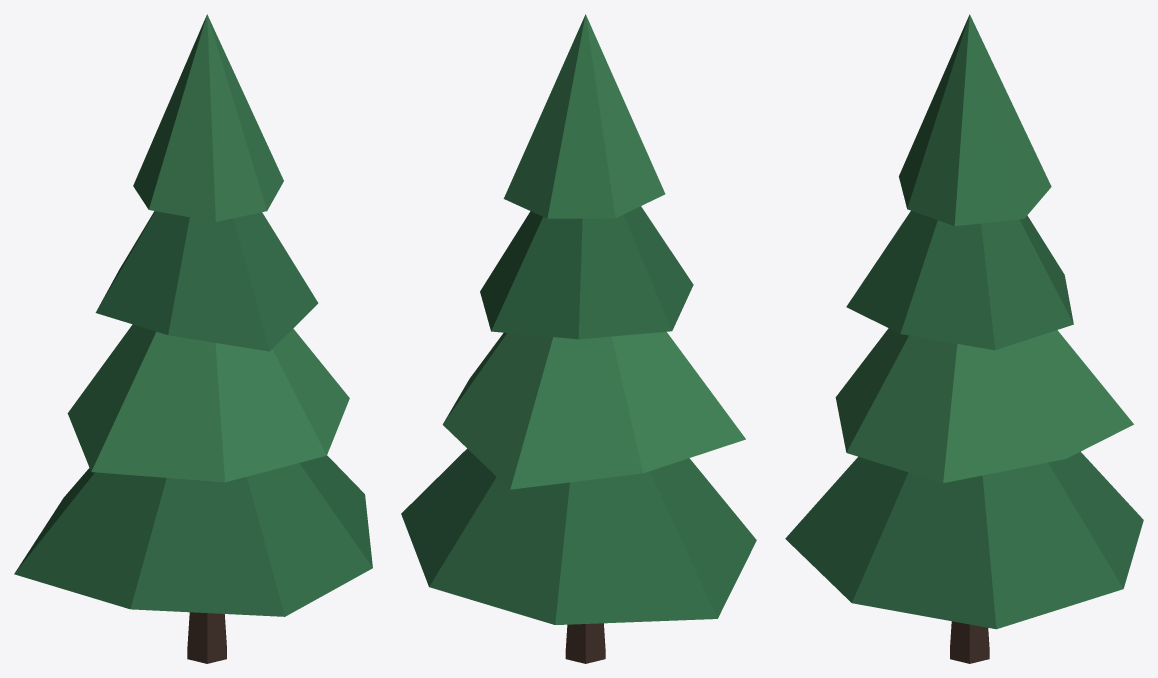
The model's file is tree_pine.glb.
The picture shows the model from 3 angles, left to right: view 1: azimuth 30°, elevation 25°; view 2: azimuth 150°, elevation 25°; view 3: azimuth 270°, elevation 25°; orthographic projection.
Parts seen in each view (by area): view 1: tree_pine; view 2: tree_pine; view 3: tree_pine.
Part boxes in pixels (bbox=[...]): tree_pine: bbox=[14, 14, 372, 663]; tree_pine: bbox=[401, 14, 756, 663]; tree_pine: bbox=[785, 14, 1143, 663].
Size of the model in its own units: 3.36 by 6.15 by 3.12.
Materials: 1 (1 with a texture image).
